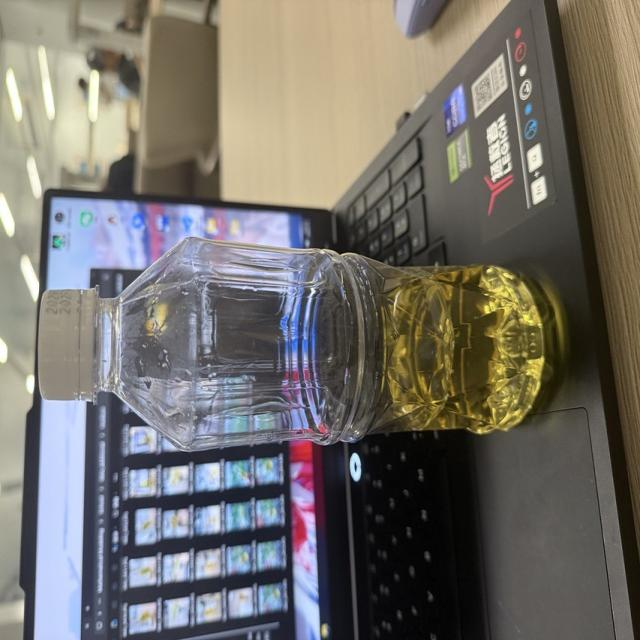low: (38, 237, 558, 450)
